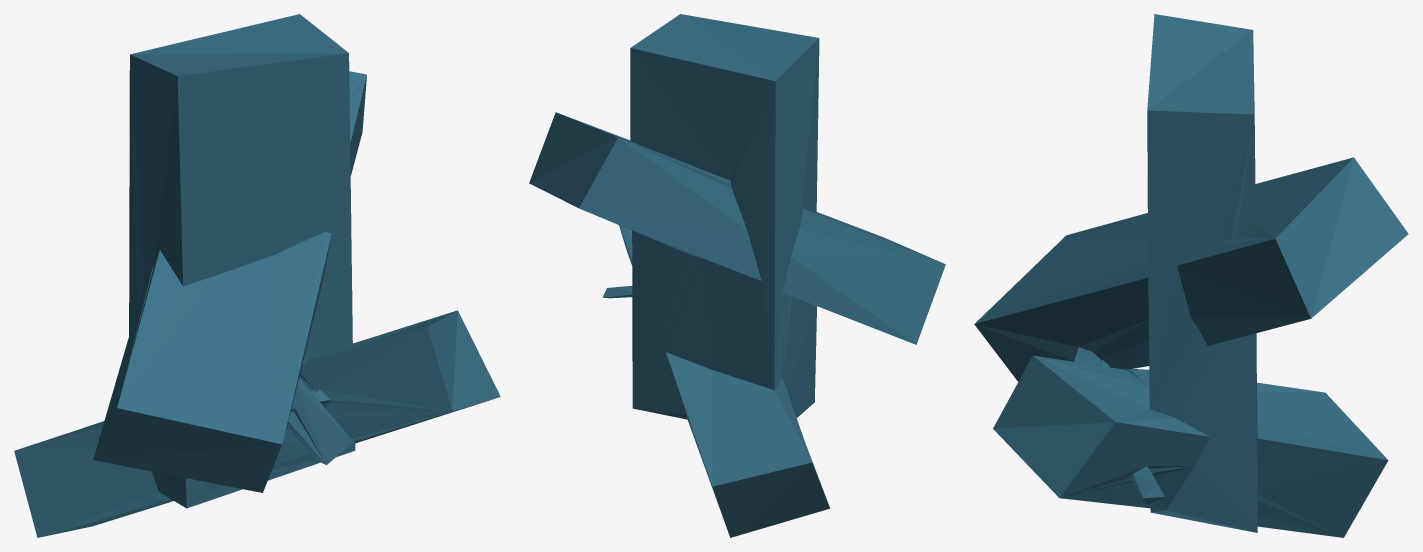
The picture shows the model from 3 angles, left to right: view 1: azimuth 30°, elevation 25°; view 2: azimuth 150°, elevation 25°; view 3: azimuth 270°, elevation 25°; orthographic projection. The views are drawn at different scales.
Parts seen in each view (by area): view 1: 678_Cube.2721; view 2: 678_Cube.2721; view 3: 678_Cube.2721.
Part boxes in pixels (<box>): 678_Cube.2721: <box>14,14,500,537</box>; 678_Cube.2721: <box>529,14,945,537</box>; 678_Cube.2721: <box>974,14,1408,537</box>.
Size of the model in its own units: 11.38 by 14.95 by 11.34.
